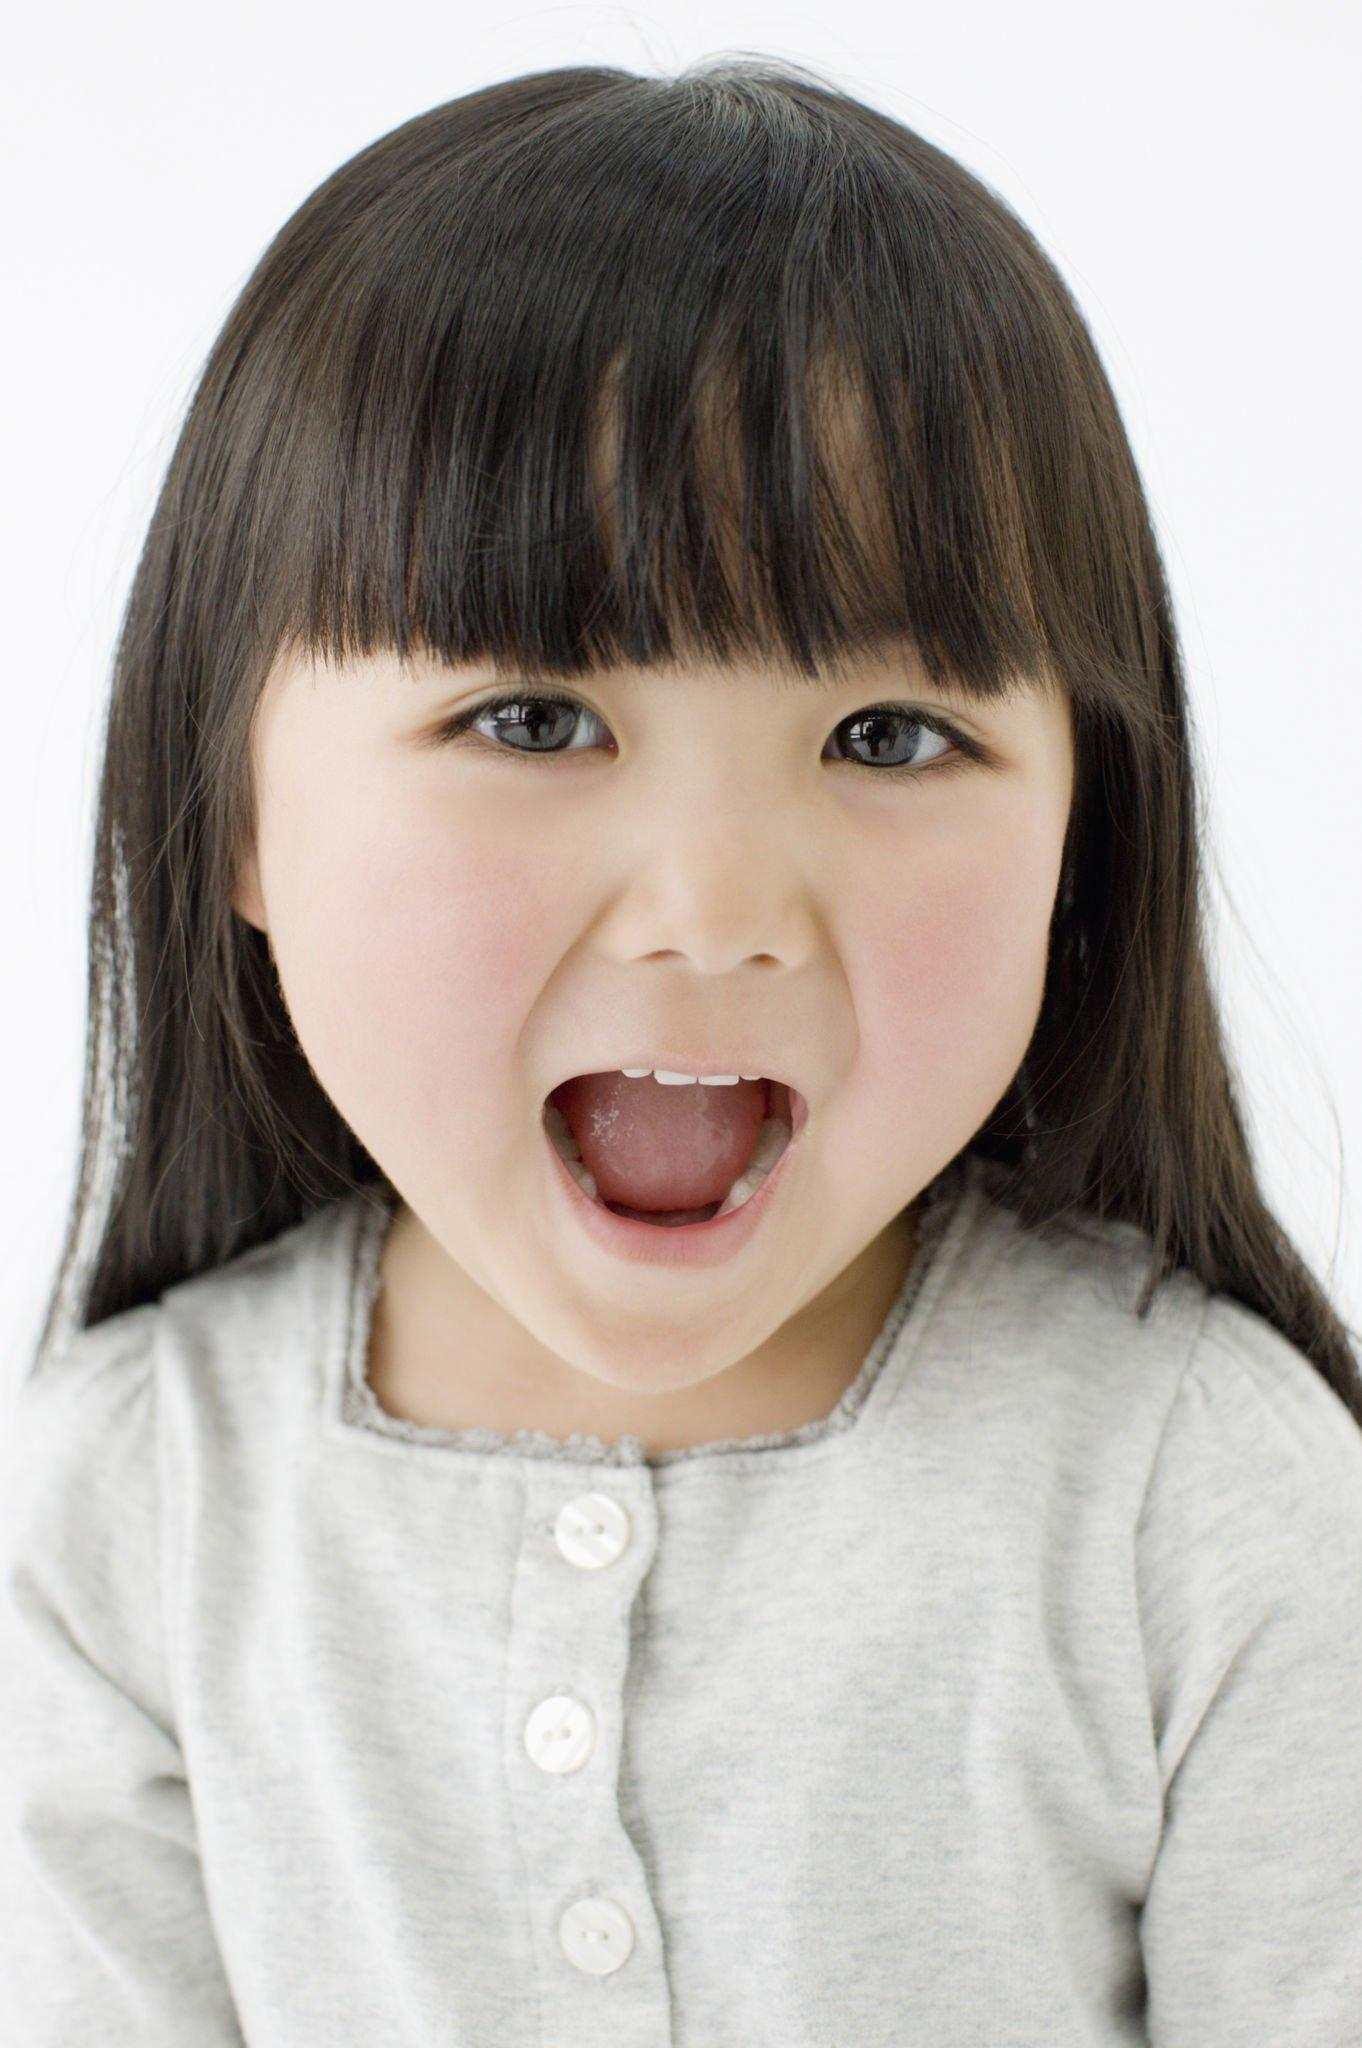Healthy: (146, 196, 1213, 1449)
